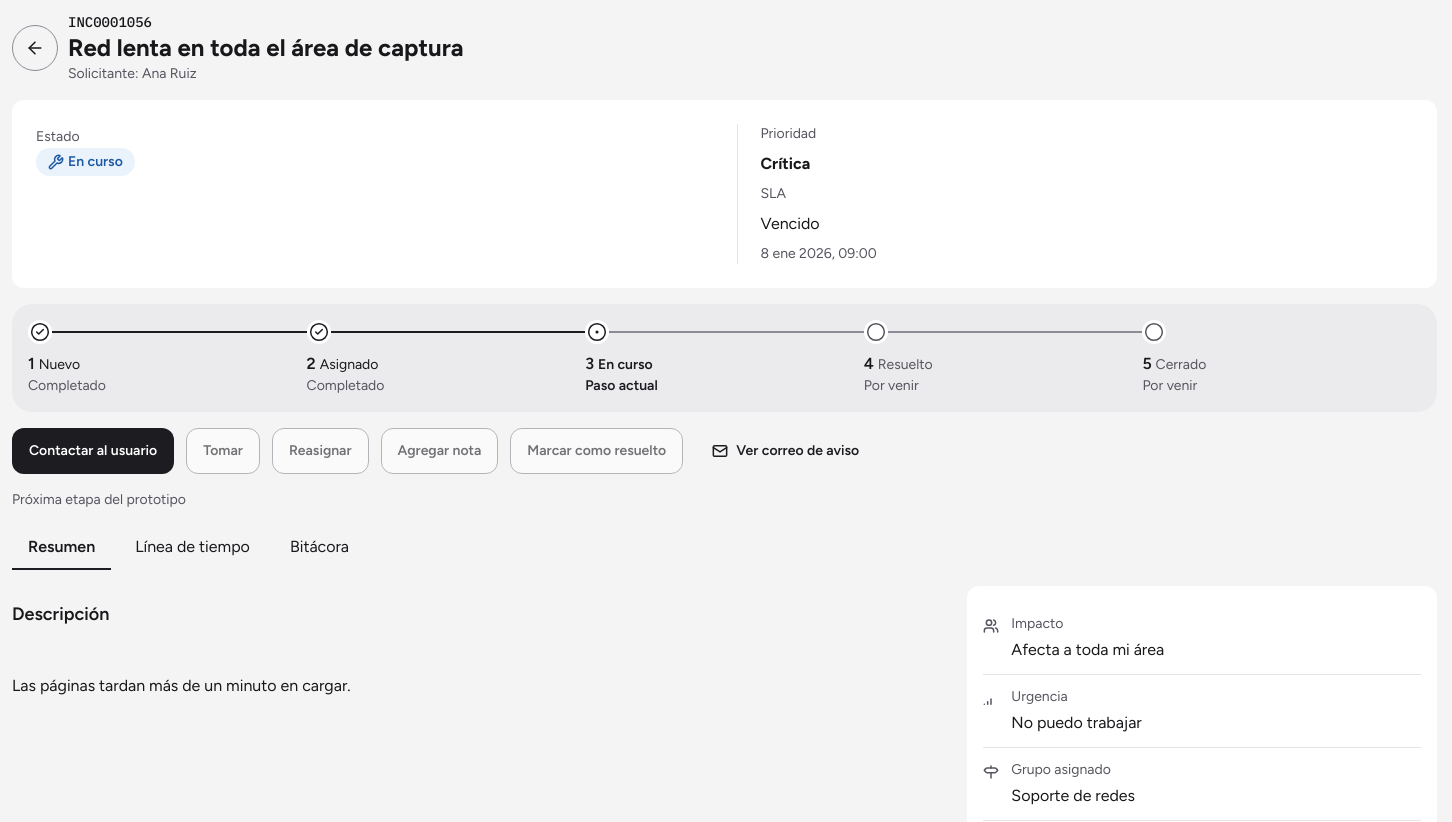
Test: TicketRecord agent v2 (T2) › renders the new event kinds in the timeline and the log
The width and height of the screenshot is (1452, 822).
Click the tab "Línea de tiempo" at (193, 548), box [119,526,266,570]
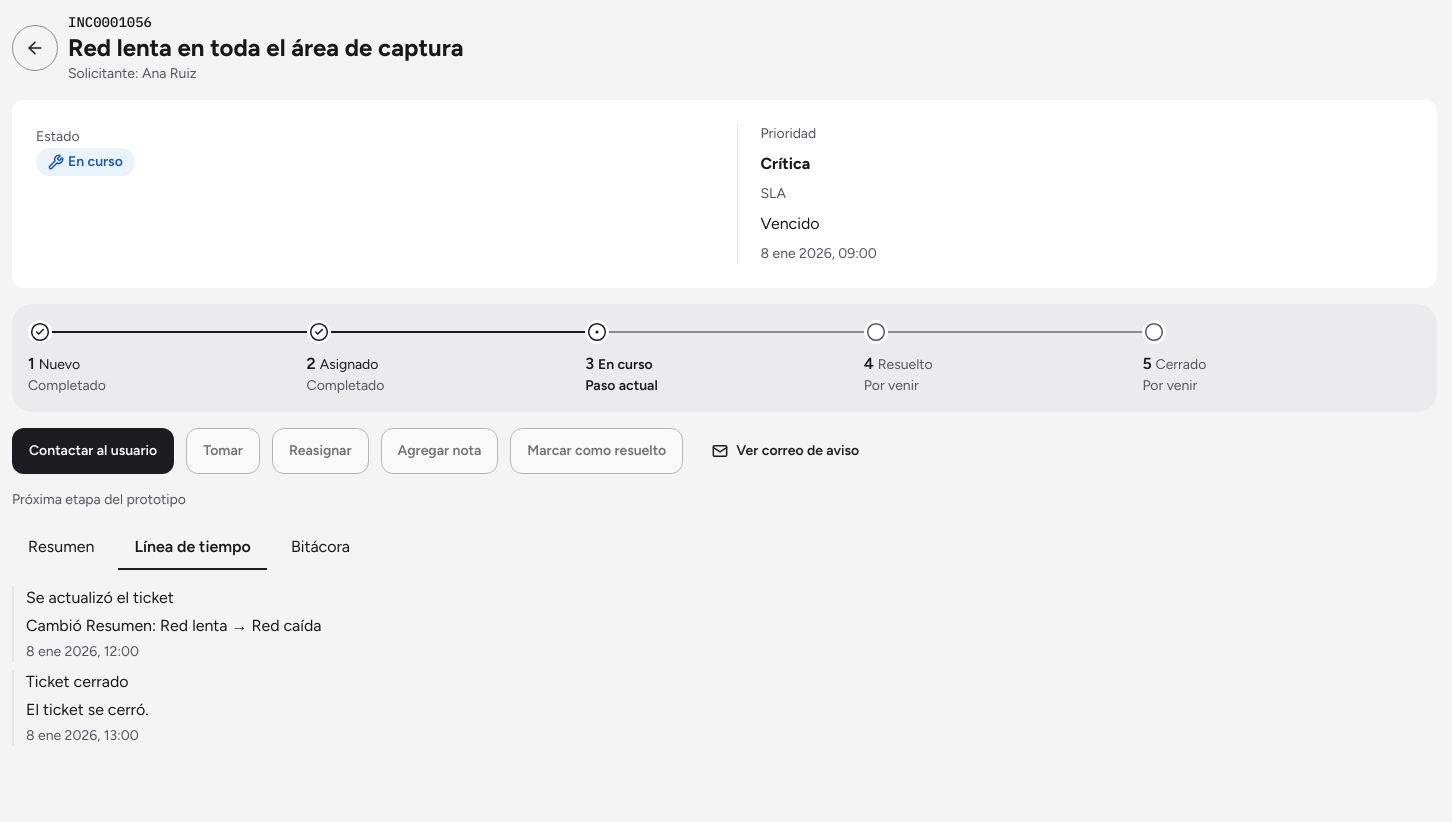
expect the list item that starts with "Se actualizó el ticket" shows "Cambió Resumen: Red lenta → Red caída": met, box [26,616,322,635]
expect the list item "Ticket cerrado El ticket se cerró. 8 ene 2026, 13:00" is shown: met, box [12,670,1437,746]
Click the tab "Bitácora" at (320, 548), box [275,526,366,570]
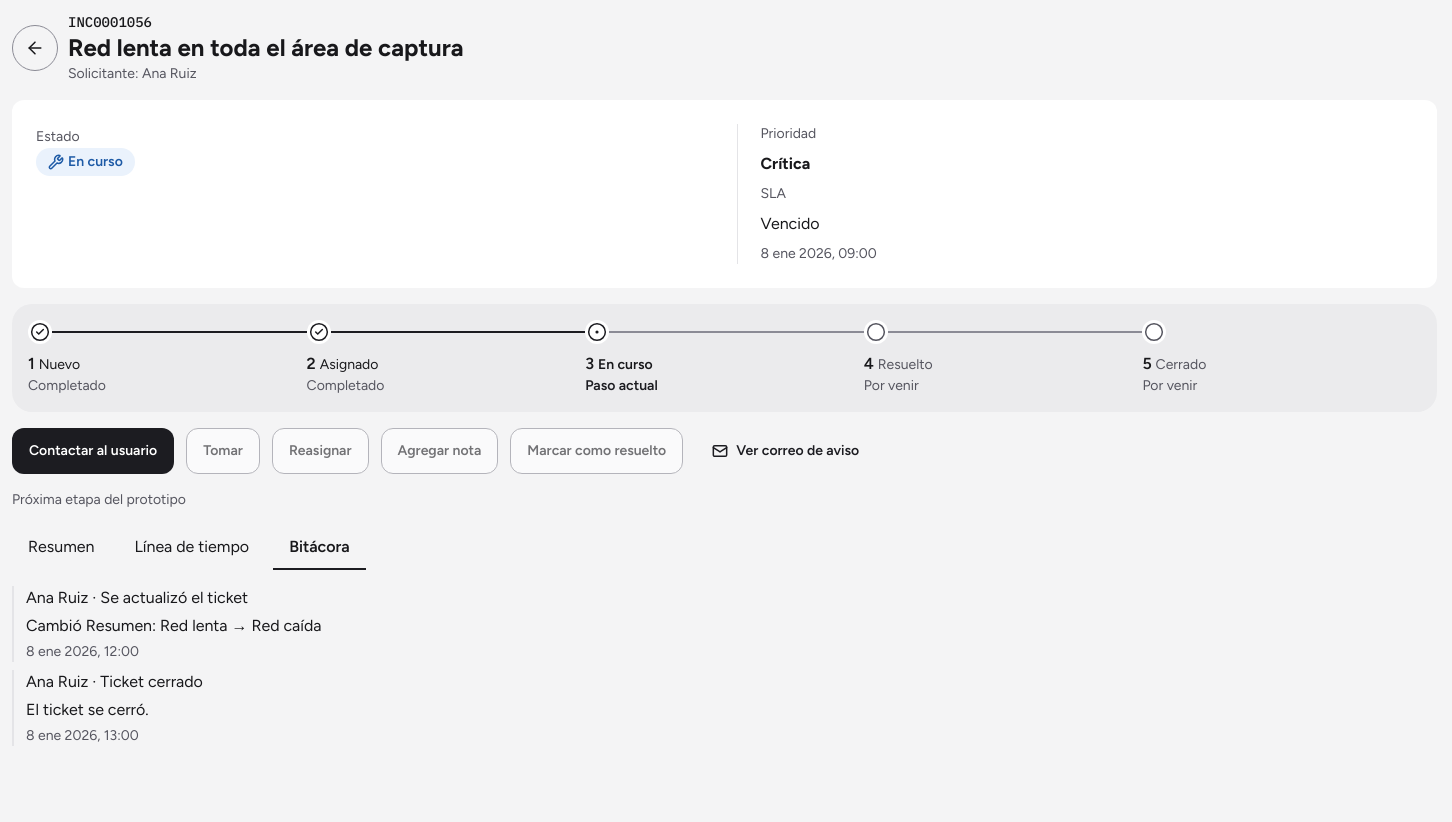
expect the 6th list item shows "Cambió Resumen: Red lenta → Red caída": met, box [26,616,322,635]
expect the 6th list item shows "Ana Ruiz · Se actualizó el ticket": met, box [12,586,1437,662]
